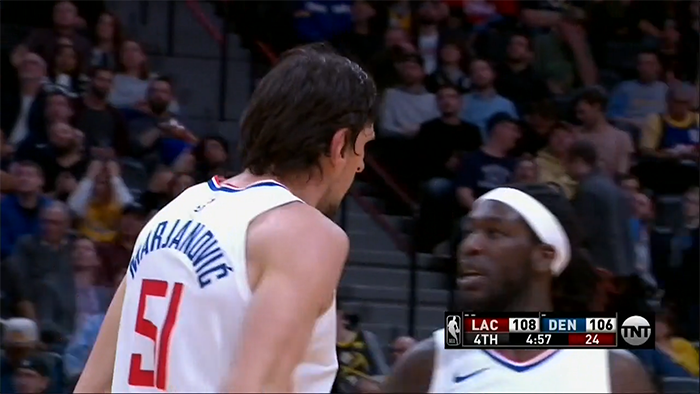player: (80, 46, 375, 394), (393, 185, 653, 394)
